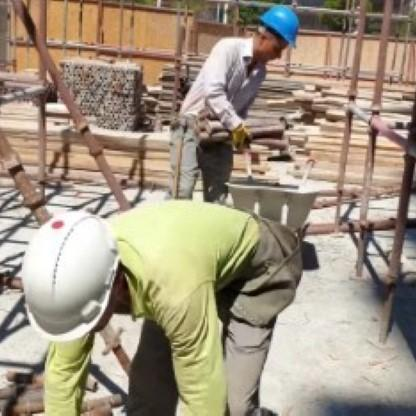helmet: (23, 200, 132, 343), (243, 3, 298, 65)
